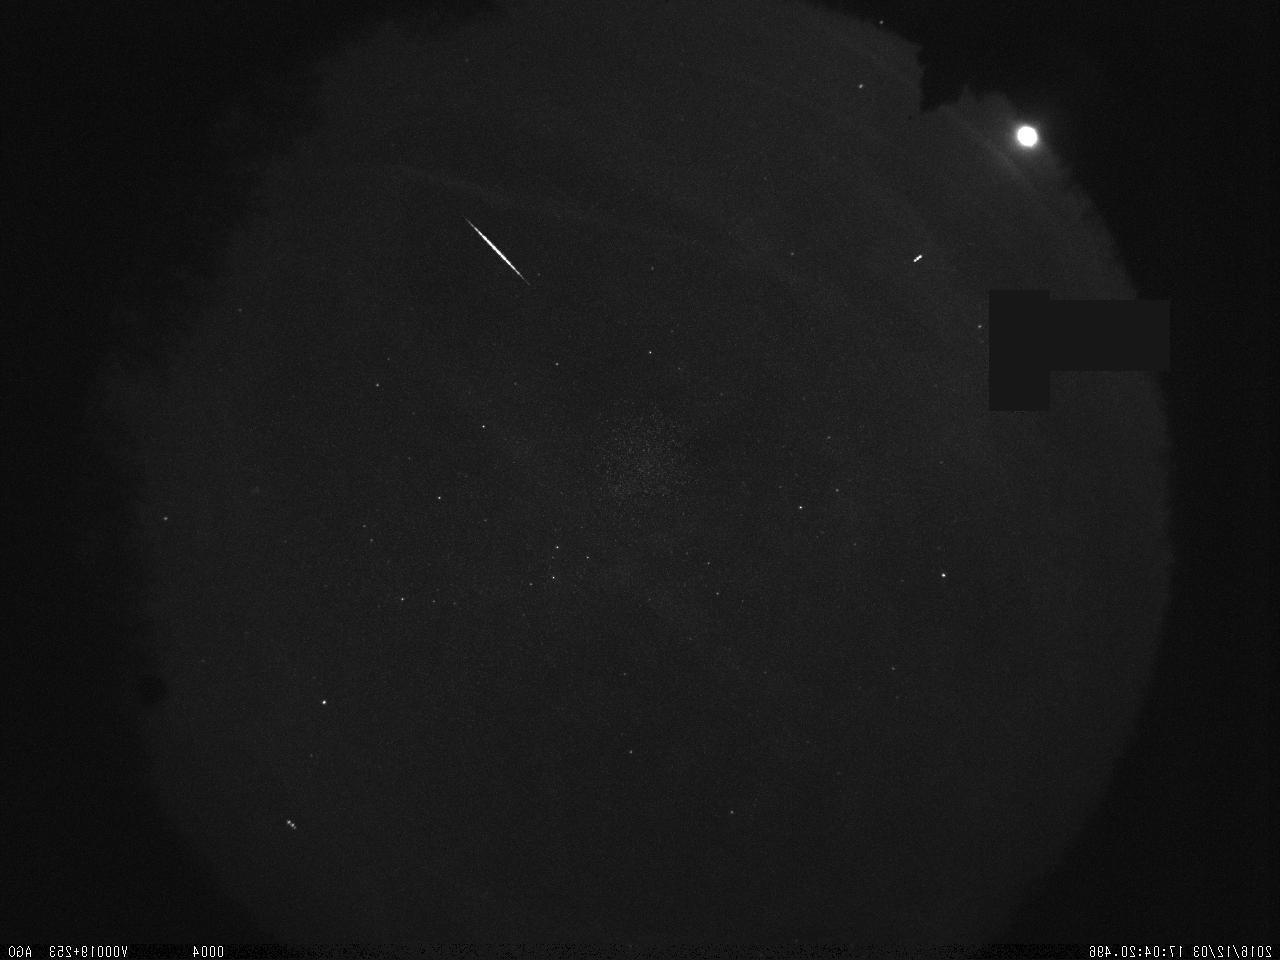meteor: (457, 209, 534, 287)
